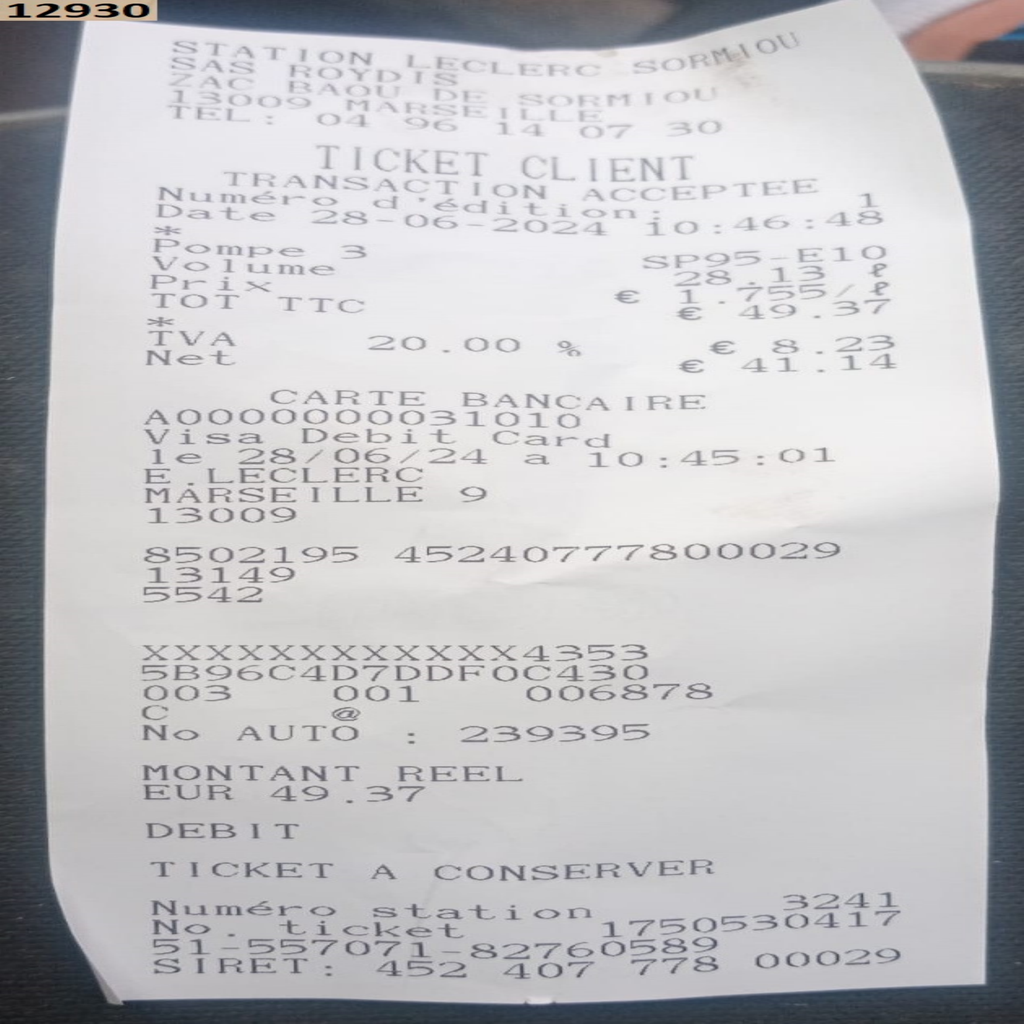recipt: (44, 0, 1001, 1001)
